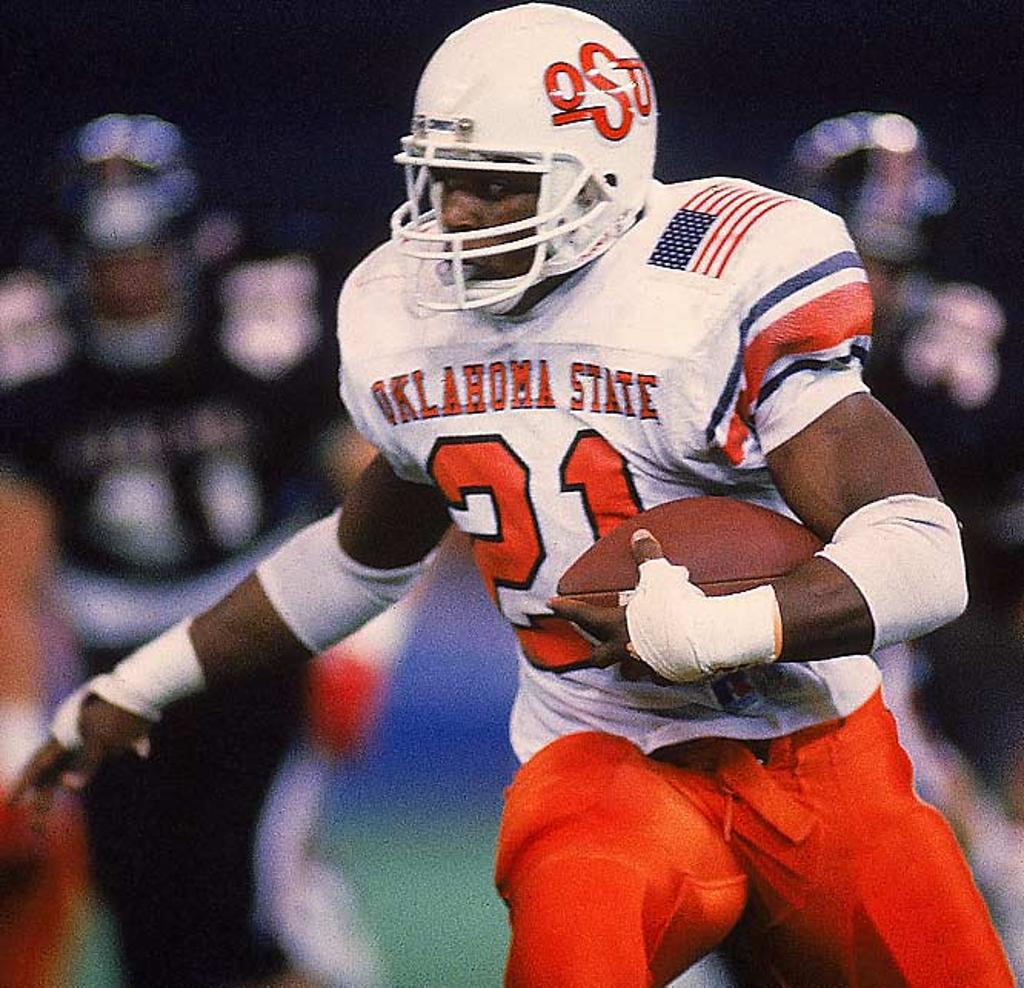face: (437, 133, 569, 311)
